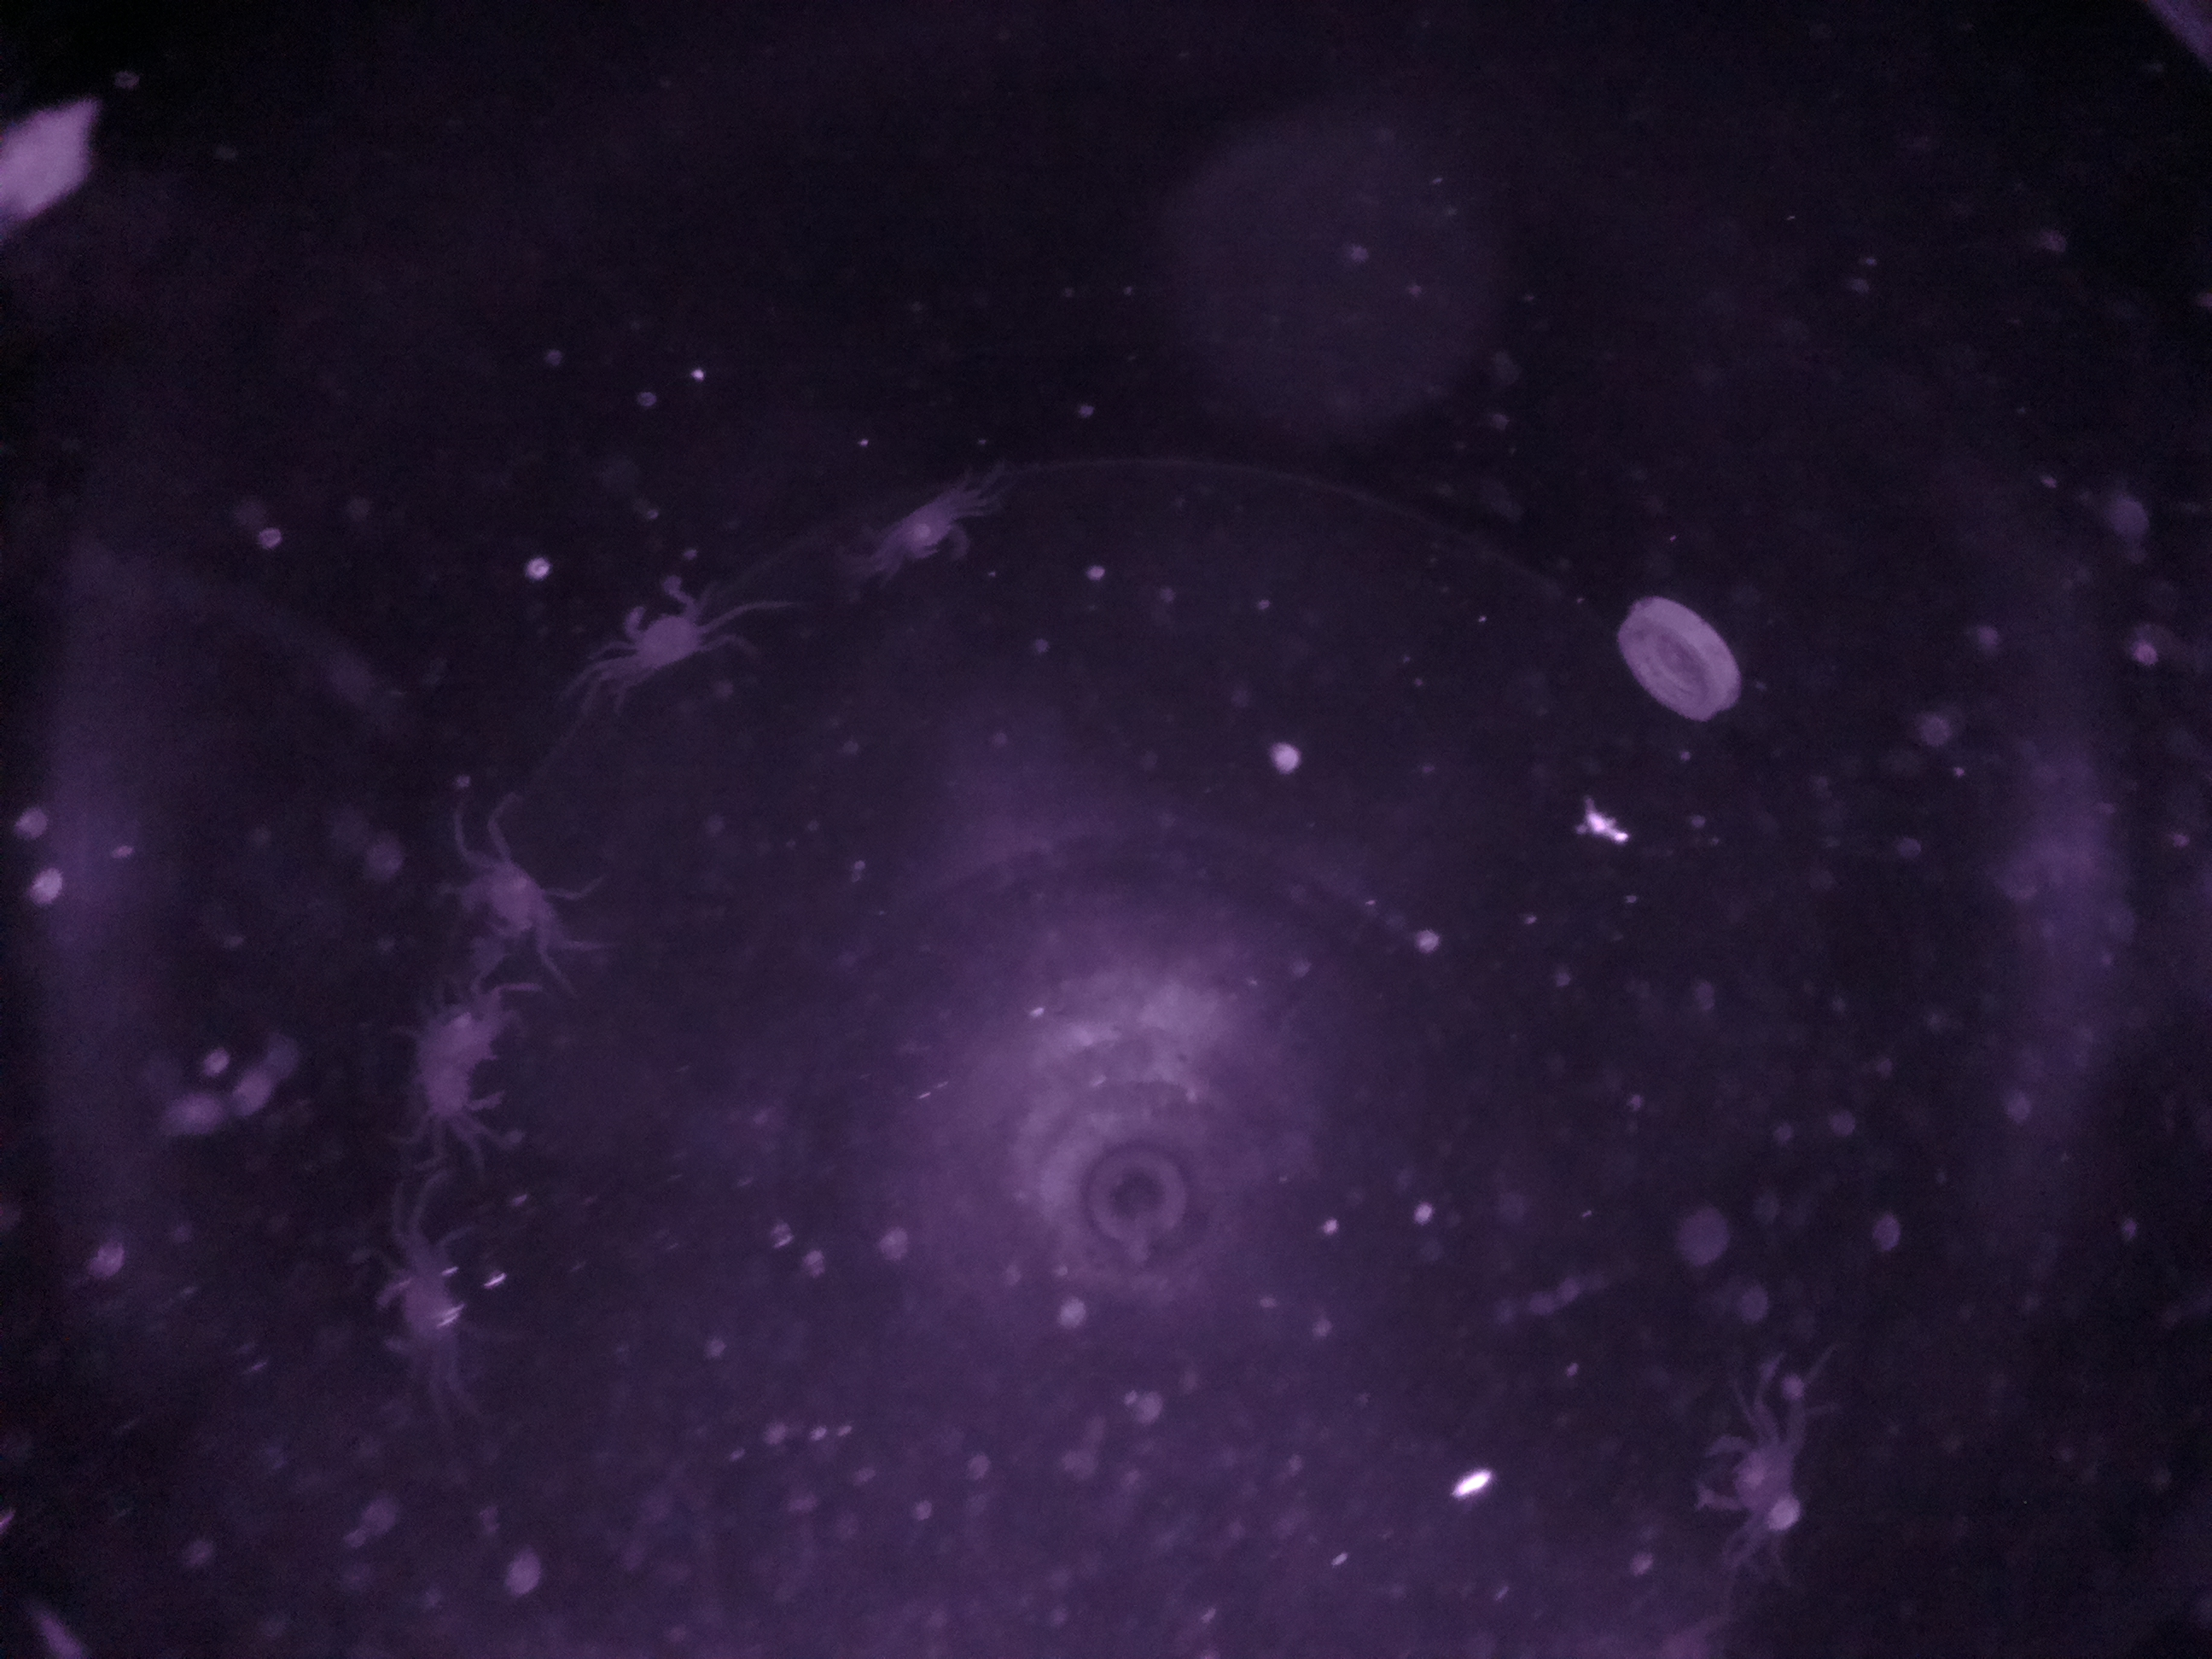Crab: (354, 1232, 517, 1392), (1672, 1396, 1841, 1551), (610, 559, 728, 708), (439, 835, 575, 964)
